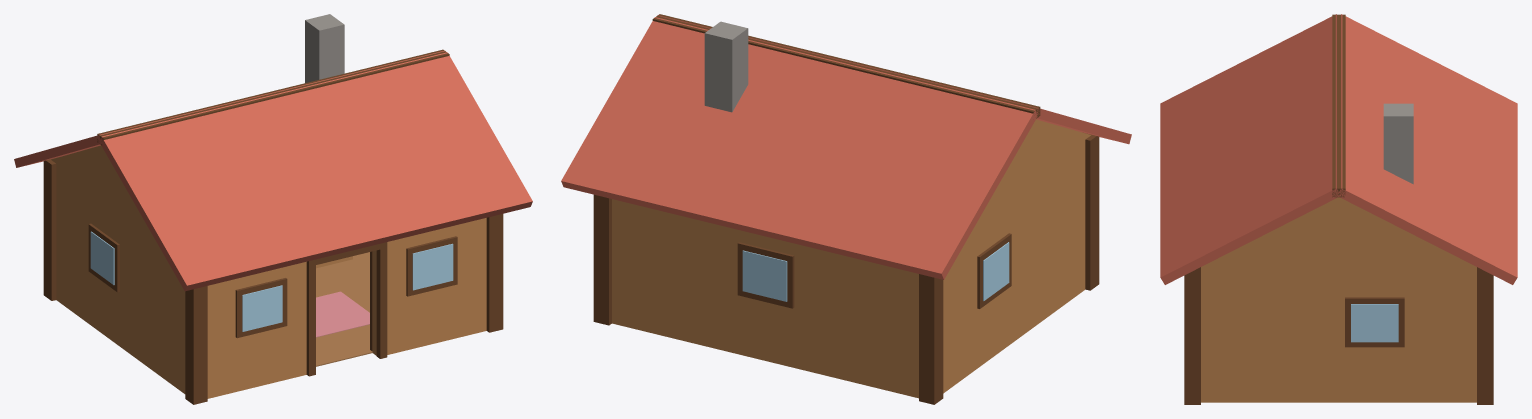
The model's file is house.glb.
3 views of the same model, side by side, from view 1: azimuth 30°, elevation 25°; view 2: azimuth 150°, elevation 25°; view 3: azimuth 270°, elevation 25° (orthographic). The views are drawn at different scales.
Visible parts, largest first — view 1: Roof, Walls-col, Floor, Glass; view 2: Roof, Walls-col, Glass; view 3: Roof, Walls-col, Glass.
Boxes of the visible parts, bbox=[...] form: Roof: bbox=[14, 14, 532, 291]; Walls-col: bbox=[43, 145, 503, 404]; Floor: bbox=[316, 252, 372, 366]; Glass: bbox=[90, 231, 453, 331]; Roof: bbox=[561, 14, 1131, 279]; Walls-col: bbox=[593, 119, 1099, 404]; Glass: bbox=[742, 242, 1009, 301]; Roof: bbox=[1160, 14, 1517, 284]; Walls-col: bbox=[1184, 197, 1493, 404]; Glass: bbox=[1351, 304, 1398, 342].
Size of the model in its own units: 6.9 by 4.75 by 5.98.
